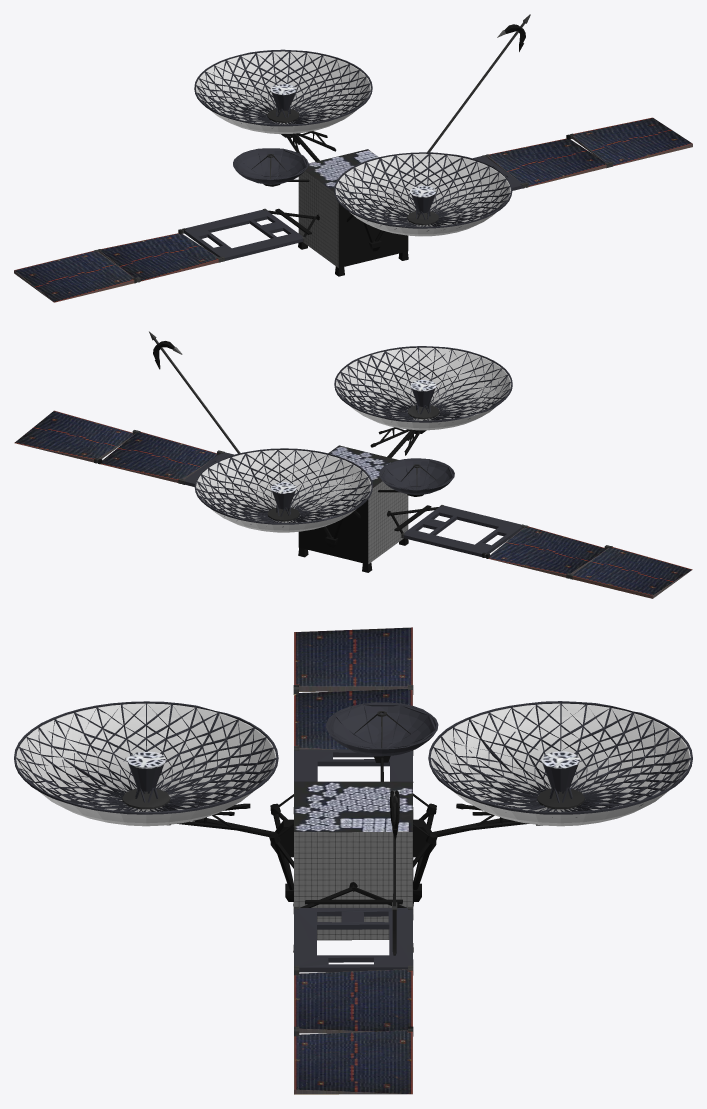
File: tdrs-gen1.glb
The picture shows the model from 3 angles, top to bottom: view 1: azimuth 30°, elevation 25°; view 2: azimuth 150°, elevation 25°; view 3: azimuth 270°, elevation 25°; orthographic projection. The views are drawn at different scales.
Visible parts, largest first — view 1: tex_01, shiny_panel, tex_02, black_krinkle, foil_silver; view 2: tex_01, tex_02, shiny_panel, black_krinkle, foil_silver; view 3: tex_01, shiny_panel, tex_02, black_krinkle, foil_silver.
Part boxes in pixels (x1,y1,x2,y2): tex_01: (92,49,692,293); shiny_panel: (14,117,692,302); tex_02: (196,51,510,236); black_krinkle: (263,24,525,276); foil_silver: (94,14,612,283); tex_01: (101,346,522,558); tex_02: (196,347,511,532); shiny_panel: (14,410,692,598); black_krinkle: (153,341,438,572); foil_silver: (94,331,612,579); tex_01: (14,691,692,1094); shiny_panel: (294,627,412,1094); tex_02: (16,703,690,826); black_krinkle: (167,756,542,952); foil_silver: (122,685,584,1036).
Bounding box in the file's own units: 21.12 × 5.76 × 13.11.
4 materials, 3 textured.
